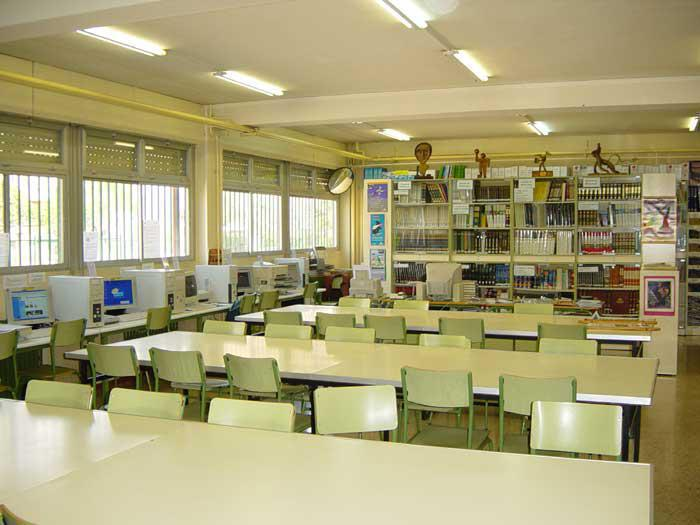Ventana: (75, 125, 191, 262), (3, 122, 73, 272), (222, 149, 283, 251), (283, 171, 340, 249)
